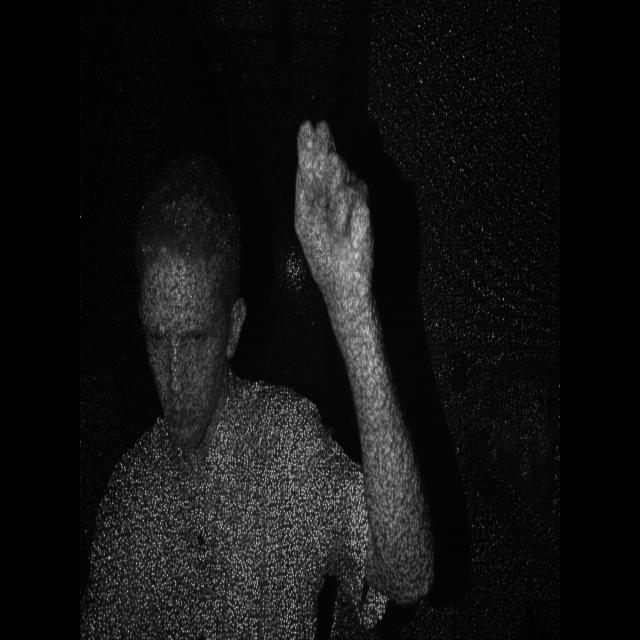N: (286, 93, 391, 310)
